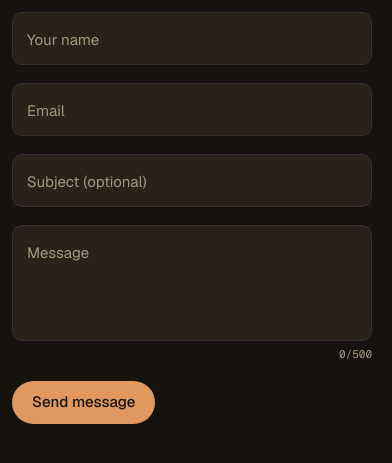
FloatingLabelForm — validation › re-checks live once a field has an error
Type "ada@" into the field labelled "Email" at (192, 110), box top-left (12, 83), bottom-right (372, 136)
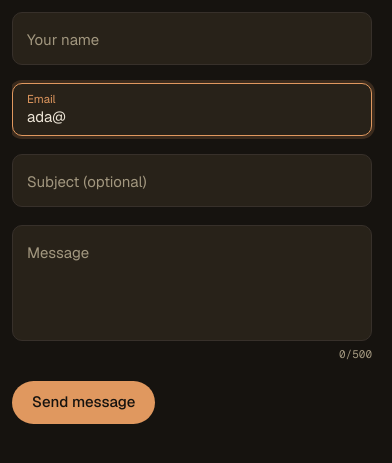
Press Tab
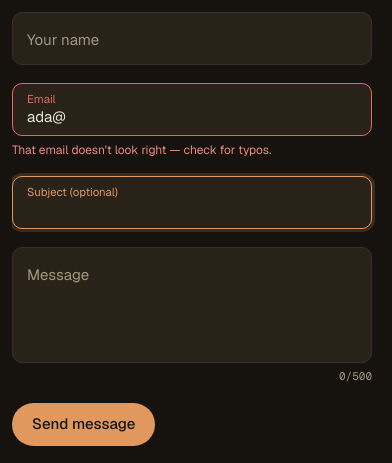
Now the field labelled "Email" is marked as invalid
Type "example.com" into the field labelled "Email" at (192, 110), box top-left (12, 83), bottom-right (372, 136)
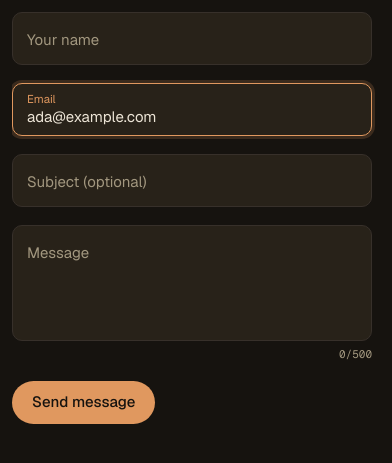
Now the text "That email doesn't look right — check for typos." is gone
